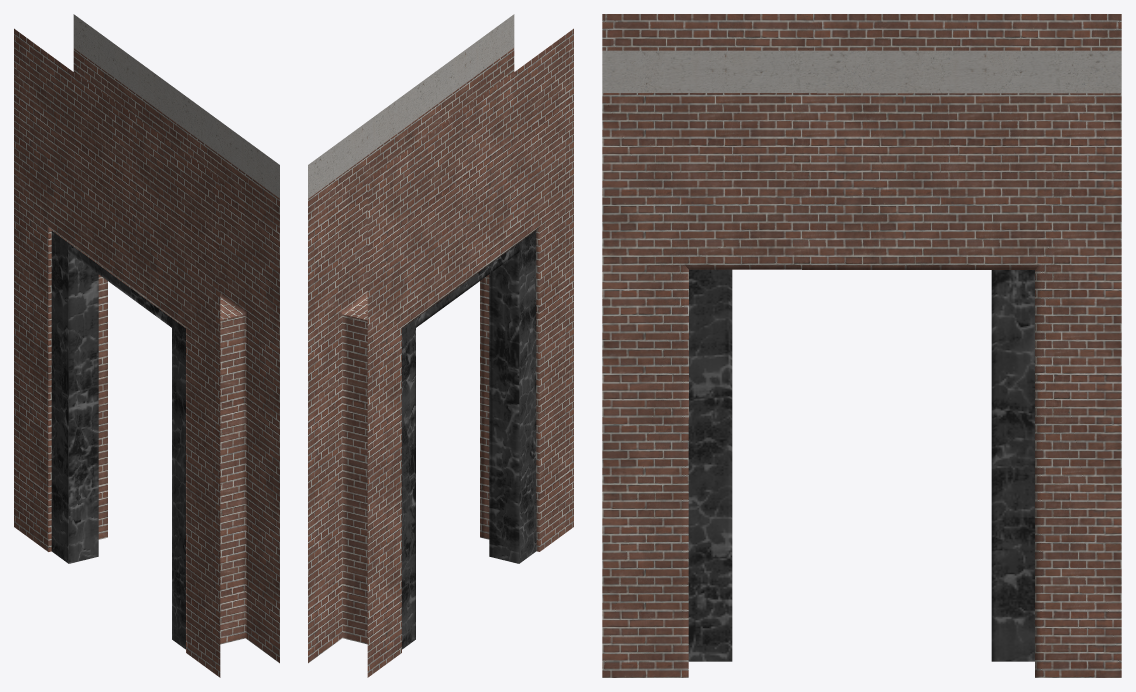
The model's file is BuildingC_Bottom_Wall_VarA_mdl.fbx.
3 views of the same model, side by side, from view 1: azimuth 30°, elevation 25°; view 2: azimuth 150°, elevation 25°; view 3: azimuth 270°, elevation 25° (orthographic). The views are drawn at different scales.
Visible parts, largest first — view 1: BuildingC_Bottom_Wall_VarA_LOD0; view 2: BuildingC_Bottom_Wall_VarA_LOD0; view 3: BuildingC_Bottom_Wall_VarA_LOD0.
Boxes of the visible parts, box(x1,y1,x2,y2) form: BuildingC_Bottom_Wall_VarA_LOD0: box(14, 14, 279, 677); BuildingC_Bottom_Wall_VarA_LOD0: box(308, 14, 573, 677); BuildingC_Bottom_Wall_VarA_LOD0: box(602, 14, 1121, 677).
Size of what is drawn, in the model's own units: 50 by 400 by 300.
